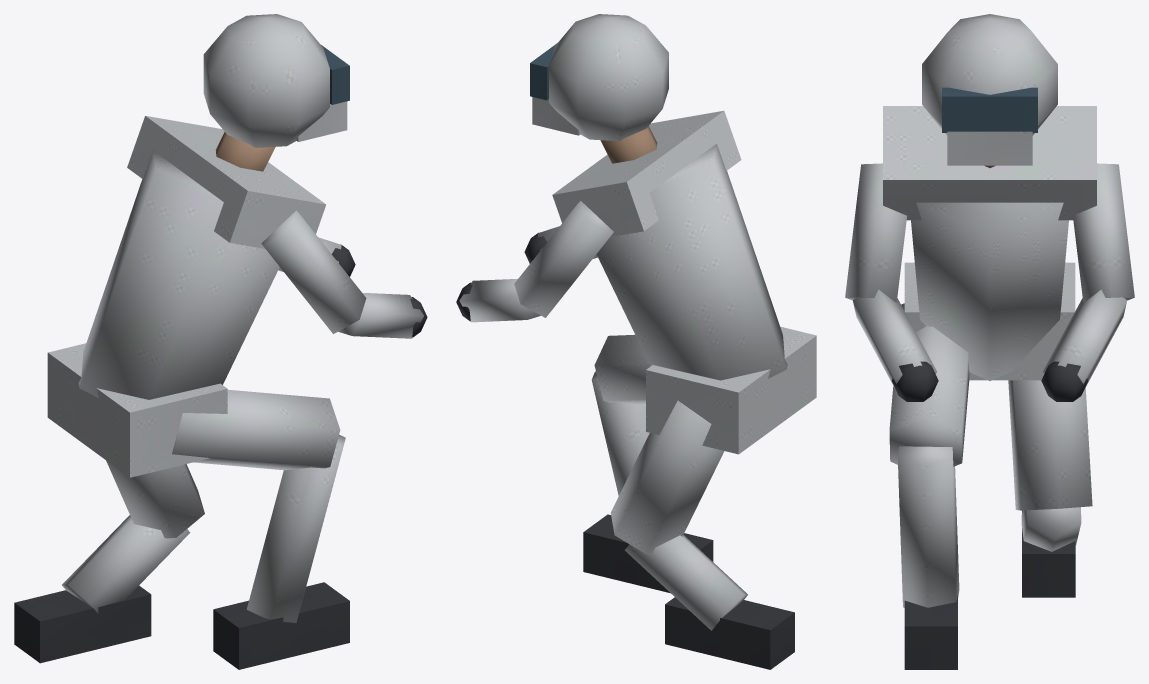
Rendered from crew-mechanic-crouched_far.glb.
3 renders of one model, left to right at view 1: azimuth 30°, elevation 25°; view 2: azimuth 150°, elevation 25°; view 3: azimuth 270°, elevation 25°, orthographic. The views are drawn at different scales.
Parts seen in each view (by area): view 1: clothing, rubber, skin, glazing; view 2: clothing, rubber, skin, glazing; view 3: clothing, rubber, glazing.
Boxes of the visible parts, x1,y1,x2,y2 form: clothing: (47,14,423,622); rubber: (14,245,427,669); skin: (215,132,275,171); glazing: (321,45,349,104); clothing: (459,14,816,630); rubber: (456,232,794,669); skin: (600,126,657,163); glazing: (530,43,557,100); clothing: (845,14,1134,607); rubber: (891,361,1088,669); glazing: (942,87,1037,132).
Size of the model in its own units: 0.7431 by 1.3 by 0.5423.
Materials: 4 (2 with a texture image).
